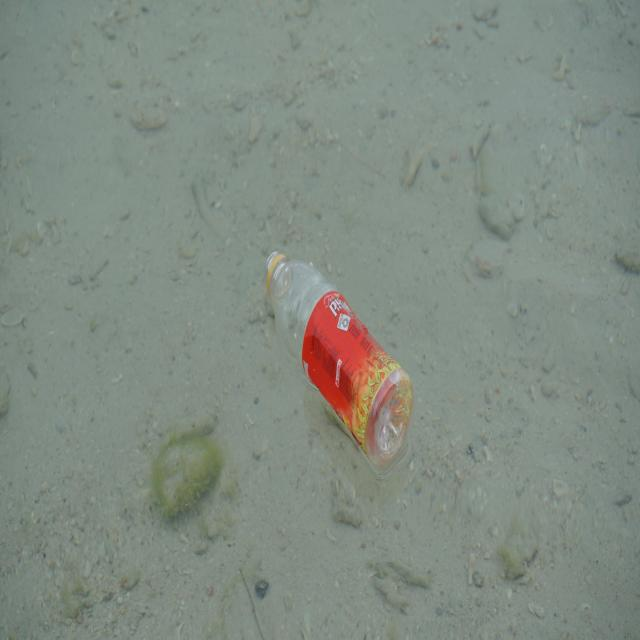Botol Plastik: (260, 244, 416, 475)
